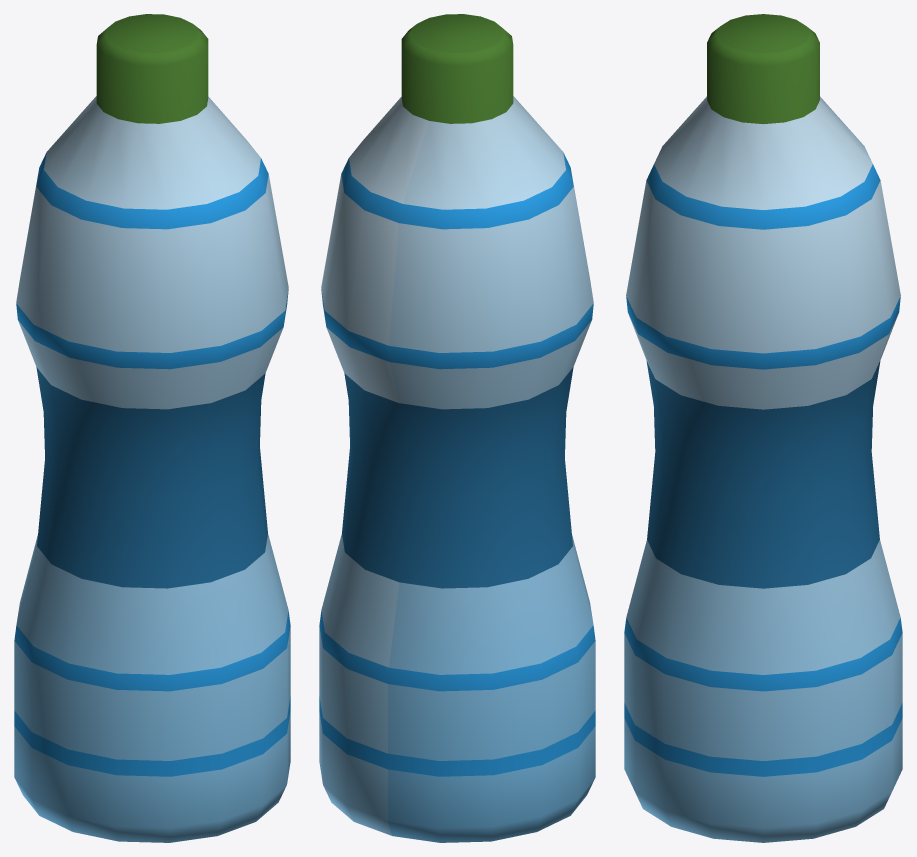
The model's file is waterbootle.fbx.
The picture shows the model from 3 angles, left to right: view 1: azimuth 30°, elevation 25°; view 2: azimuth 150°, elevation 25°; view 3: azimuth 270°, elevation 25°; orthographic projection.
Parts seen in each view (by area): view 1: bottle; view 2: bottle; view 3: bottle.
Part boxes in pixels (x1,y1,x2,y2): bottle: (14, 14, 290, 842); bottle: (319, 14, 595, 842); bottle: (624, 14, 902, 842).
Size of the model in its own units: 0.3662 by 1.11 by 0.3662.
